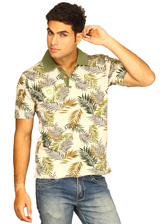clothoes: (12, 47, 134, 182)
